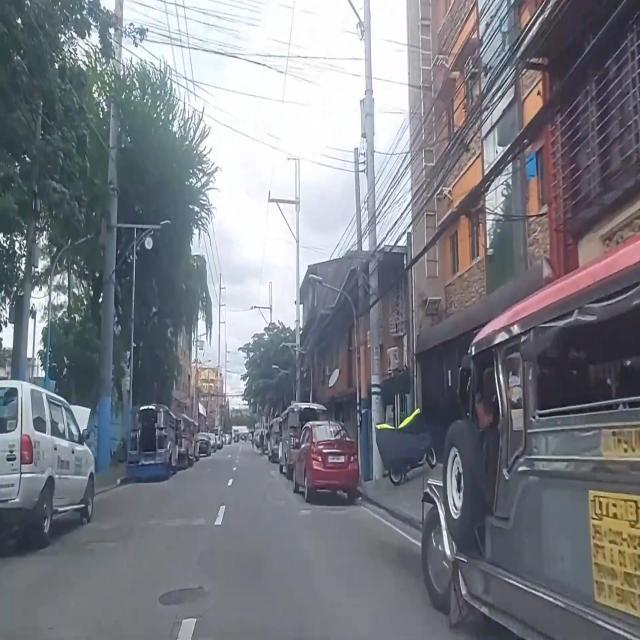car: (0, 383, 94, 548), (294, 422, 360, 508)
jeepney: (423, 235, 640, 640), (126, 406, 178, 484), (280, 402, 322, 481), (176, 414, 192, 468), (268, 416, 282, 464), (190, 420, 198, 464)
motorcycle: (374, 410, 436, 488)
